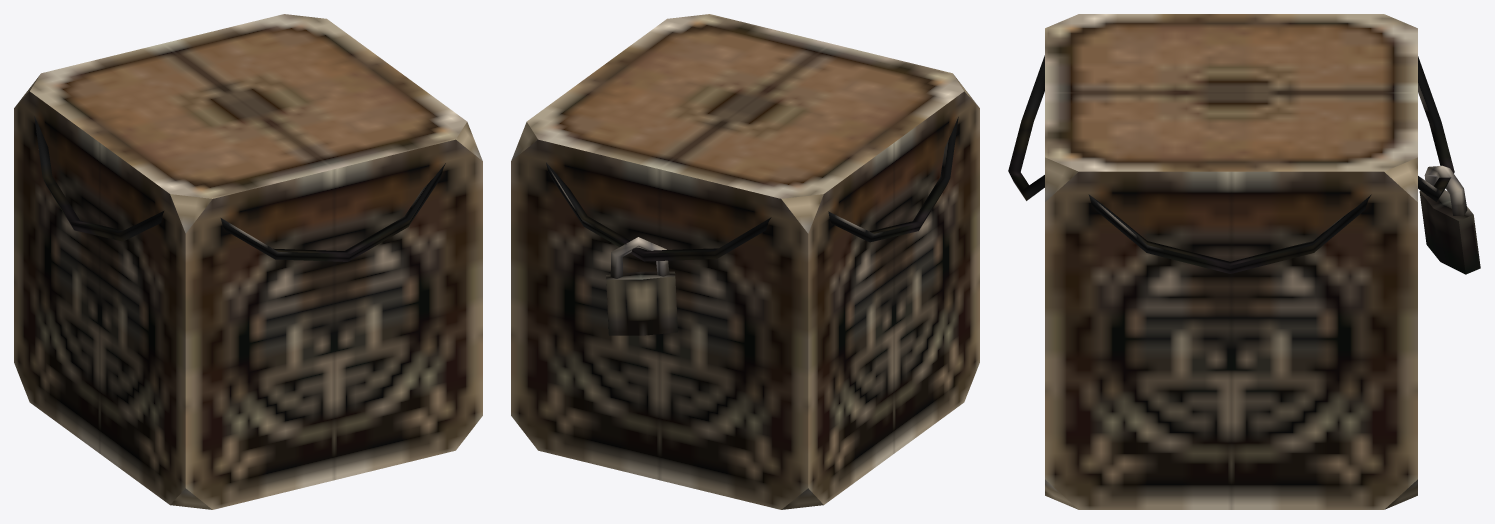
The model's file is general_obj_itembox02.glb.
The picture shows the model from 3 angles, left to right: view 1: azimuth 30°, elevation 25°; view 2: azimuth 150°, elevation 25°; view 3: azimuth 270°, elevation 25°; orthographic projection. The views are drawn at different scales.
Parts seen in each view (by area): view 1: Object07; view 2: Object07; view 3: Object07.
Boxes of the visible parts, left/top/right/bottom form: Object07: left=14, top=14, right=482, bottom=509; Object07: left=511, top=14, right=979, bottom=509; Object07: left=1008, top=14, right=1480, bottom=509.
Bounding box in the file's own units: 1.13 × 0.9485 × 1.2.
1 material, 1 textured.
